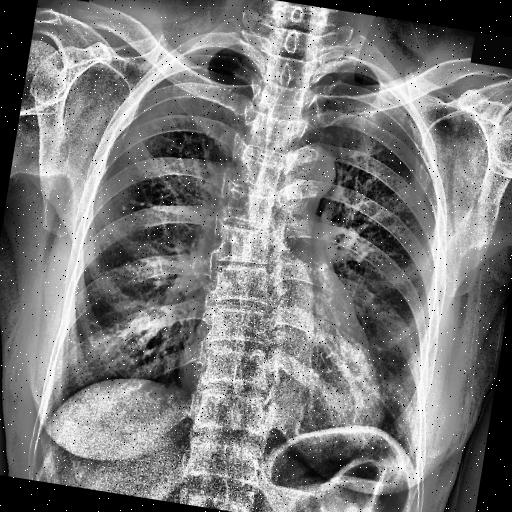0- Aortic enlargement: (275, 138, 340, 205), (276, 138, 338, 208)
13- Pulmonary fibrosis: (348, 105, 378, 135)
3- Cardiomegaly: (166, 337, 392, 455), (168, 324, 392, 438)
9- Other lesion: (348, 105, 378, 135)
